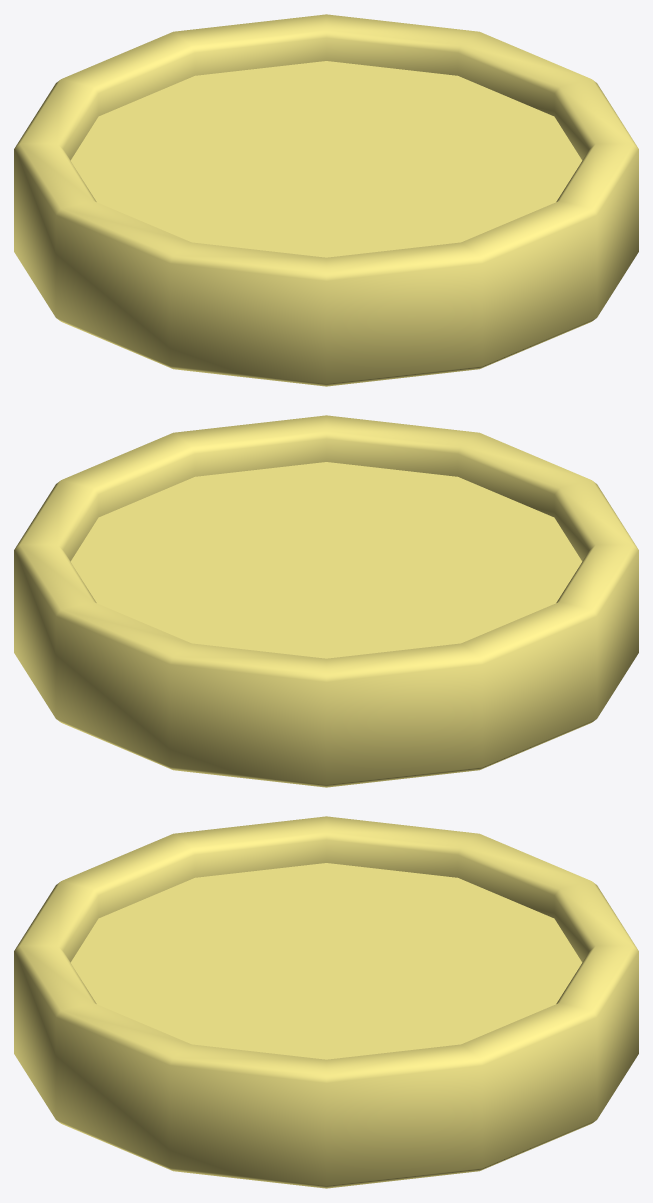
The model's file is Coin.fbx.
The picture shows the model from 3 angles, top to bottom: view 1: azimuth 30°, elevation 25°; view 2: azimuth 150°, elevation 25°; view 3: azimuth 270°, elevation 25°; orthographic projection.
Parts seen in each view (by area): view 1: Coin; view 2: Coin; view 3: Coin.
Boxes of the visible parts, x1,y1,x2,y2 form: Coin: (14, 14, 638, 386); Coin: (14, 415, 638, 787); Coin: (14, 816, 638, 1188).
Size of the model in its own units: 14.4 by 2.88 by 14.4.
